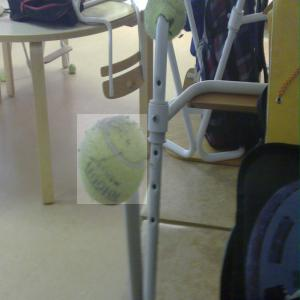TennisBall: (78, 115, 149, 206)
